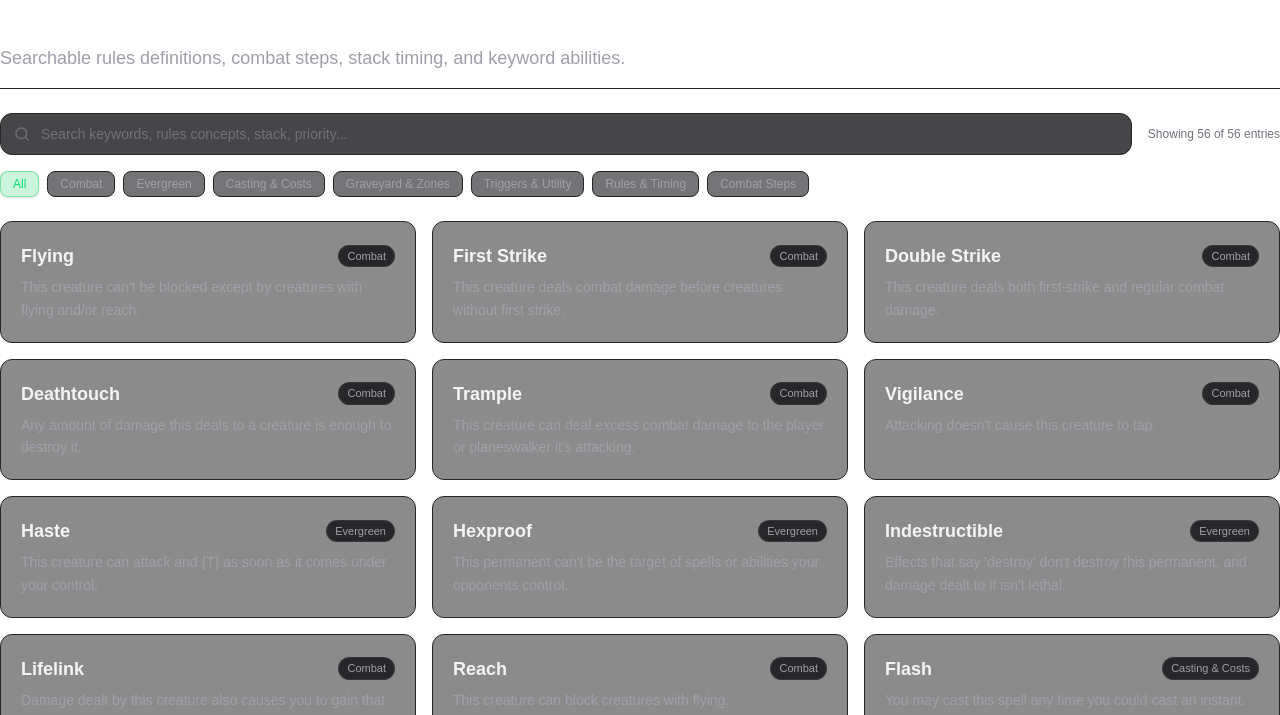
Test: KeywordGlossarySection Component › clears search input via search clear icon button
This screenshot has width=1280, height=715.
// When typing
Type "haste" into the search field named "search glossary" at (566, 134), box 0,113 -> 1132,155
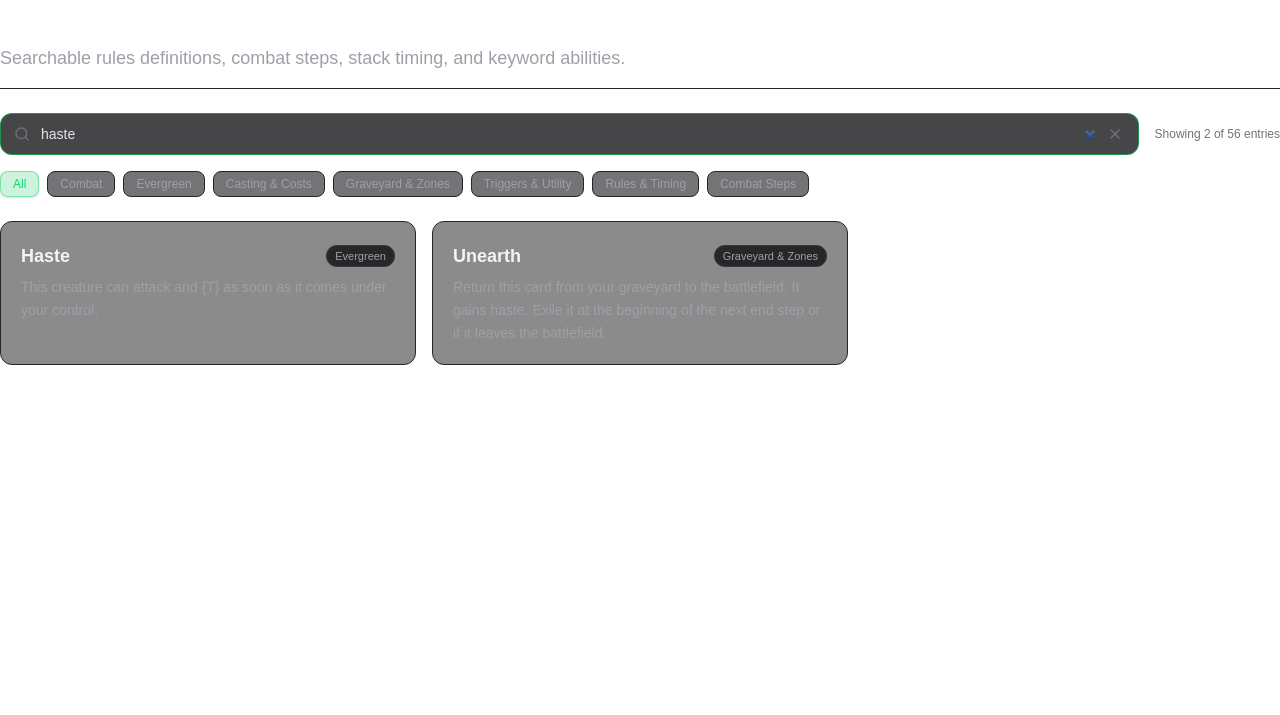
expect the heading "Haste" is shown: met, box 21,242 -> 70,270
expect the heading "Flying" is gone: met
// When clicking clear input icon button
Click the button named "clear search input" at (1114, 134), box 1102,122 -> 1126,146
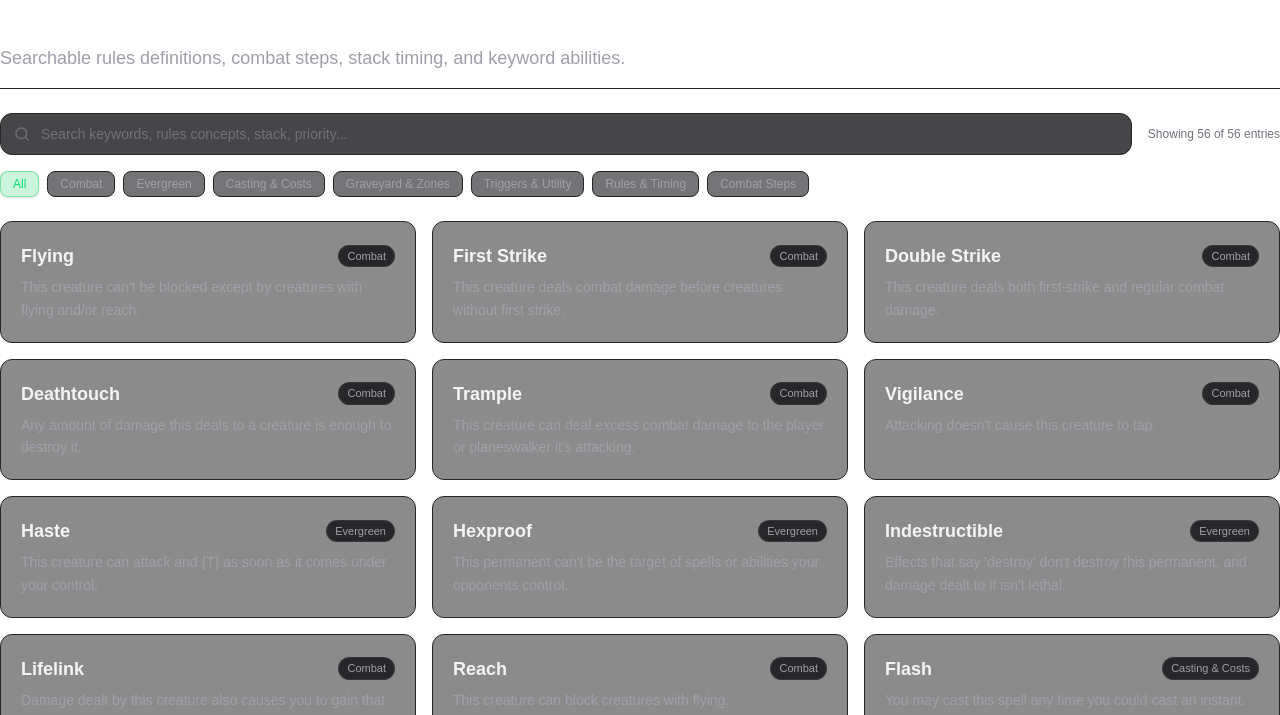
expect the heading "Haste" is shown: met, box 21,517 -> 70,545
expect the heading "Flying" is shown: met, box 21,242 -> 74,270
